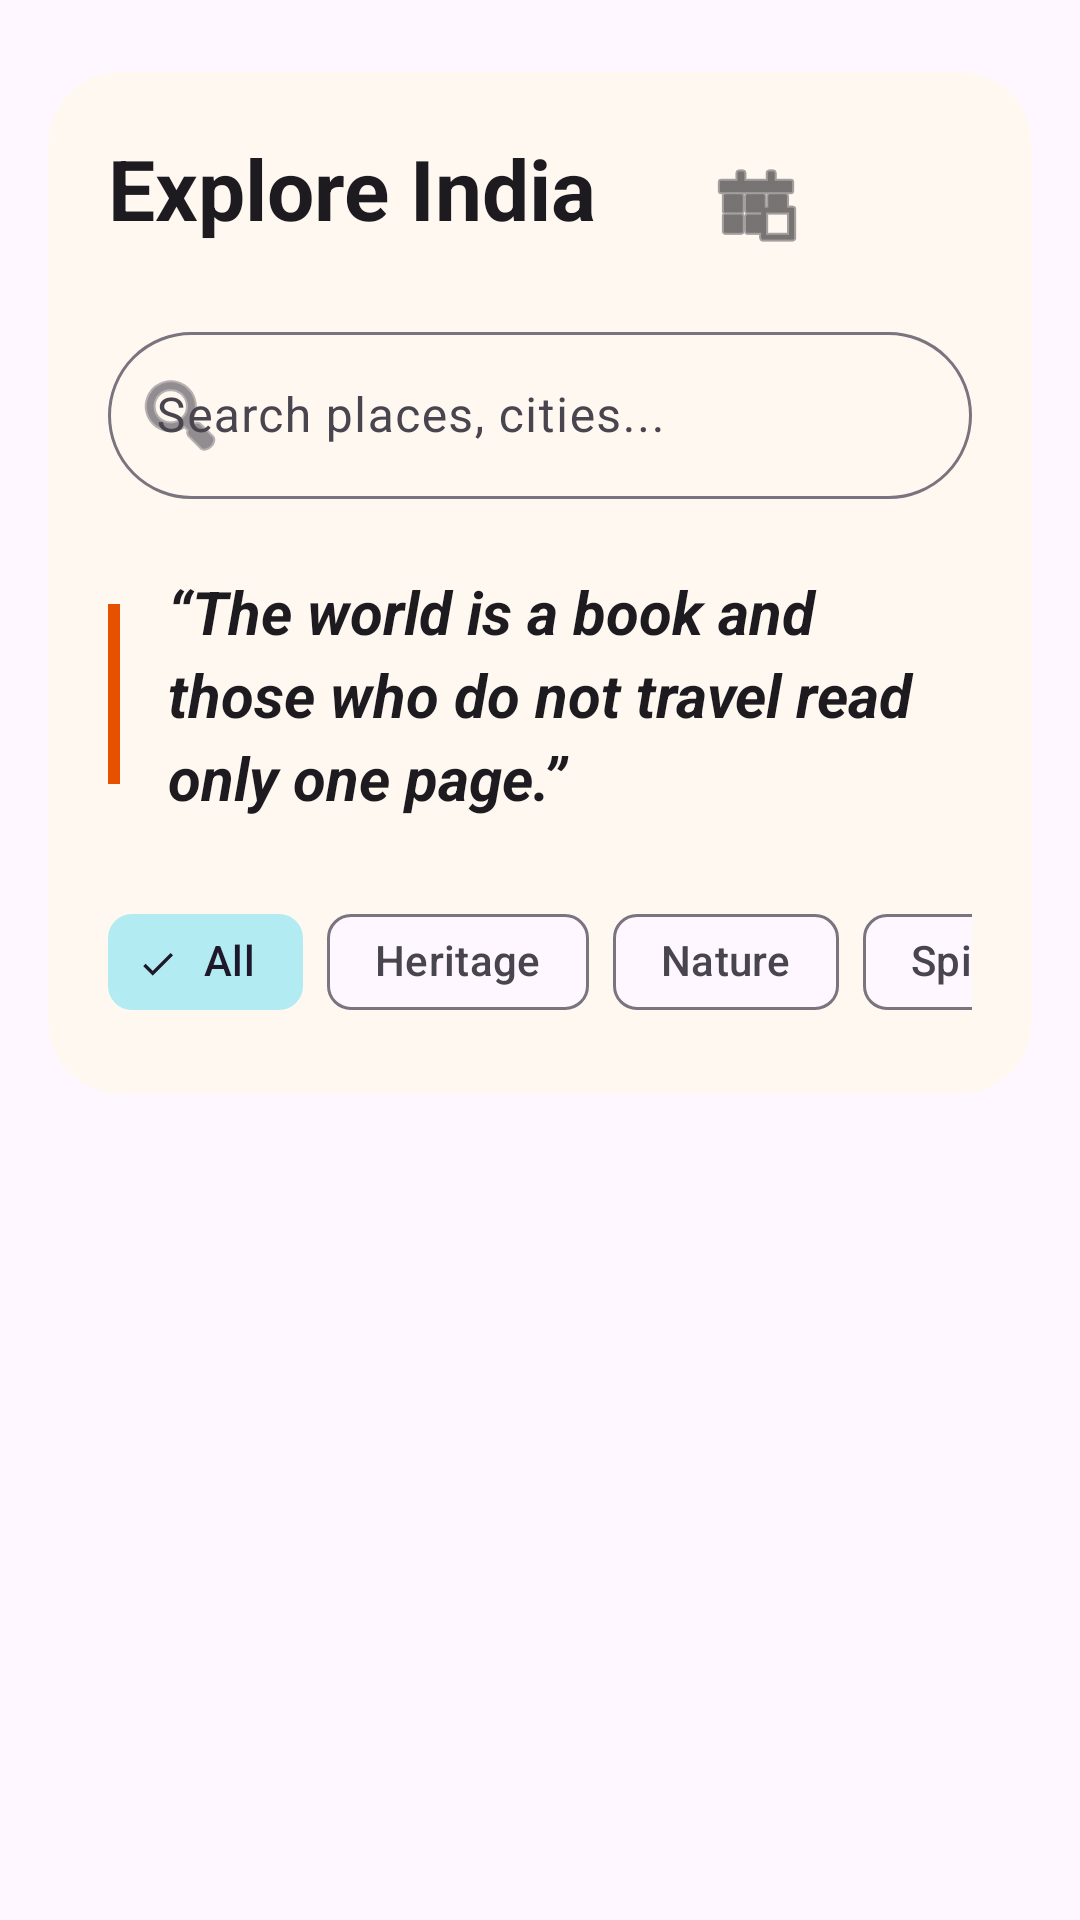

Locate icon controls on the screen. Image size 1080*1920, boxes as (x1, y1, x2, y2).
Plan Trip: (718, 169, 796, 242)
